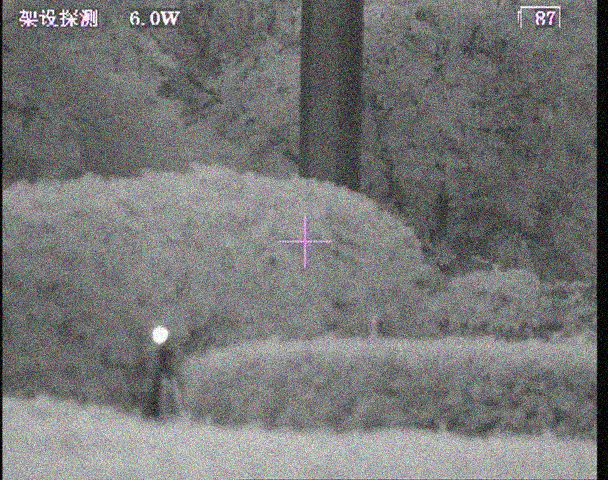my: (151, 325, 168, 345)
